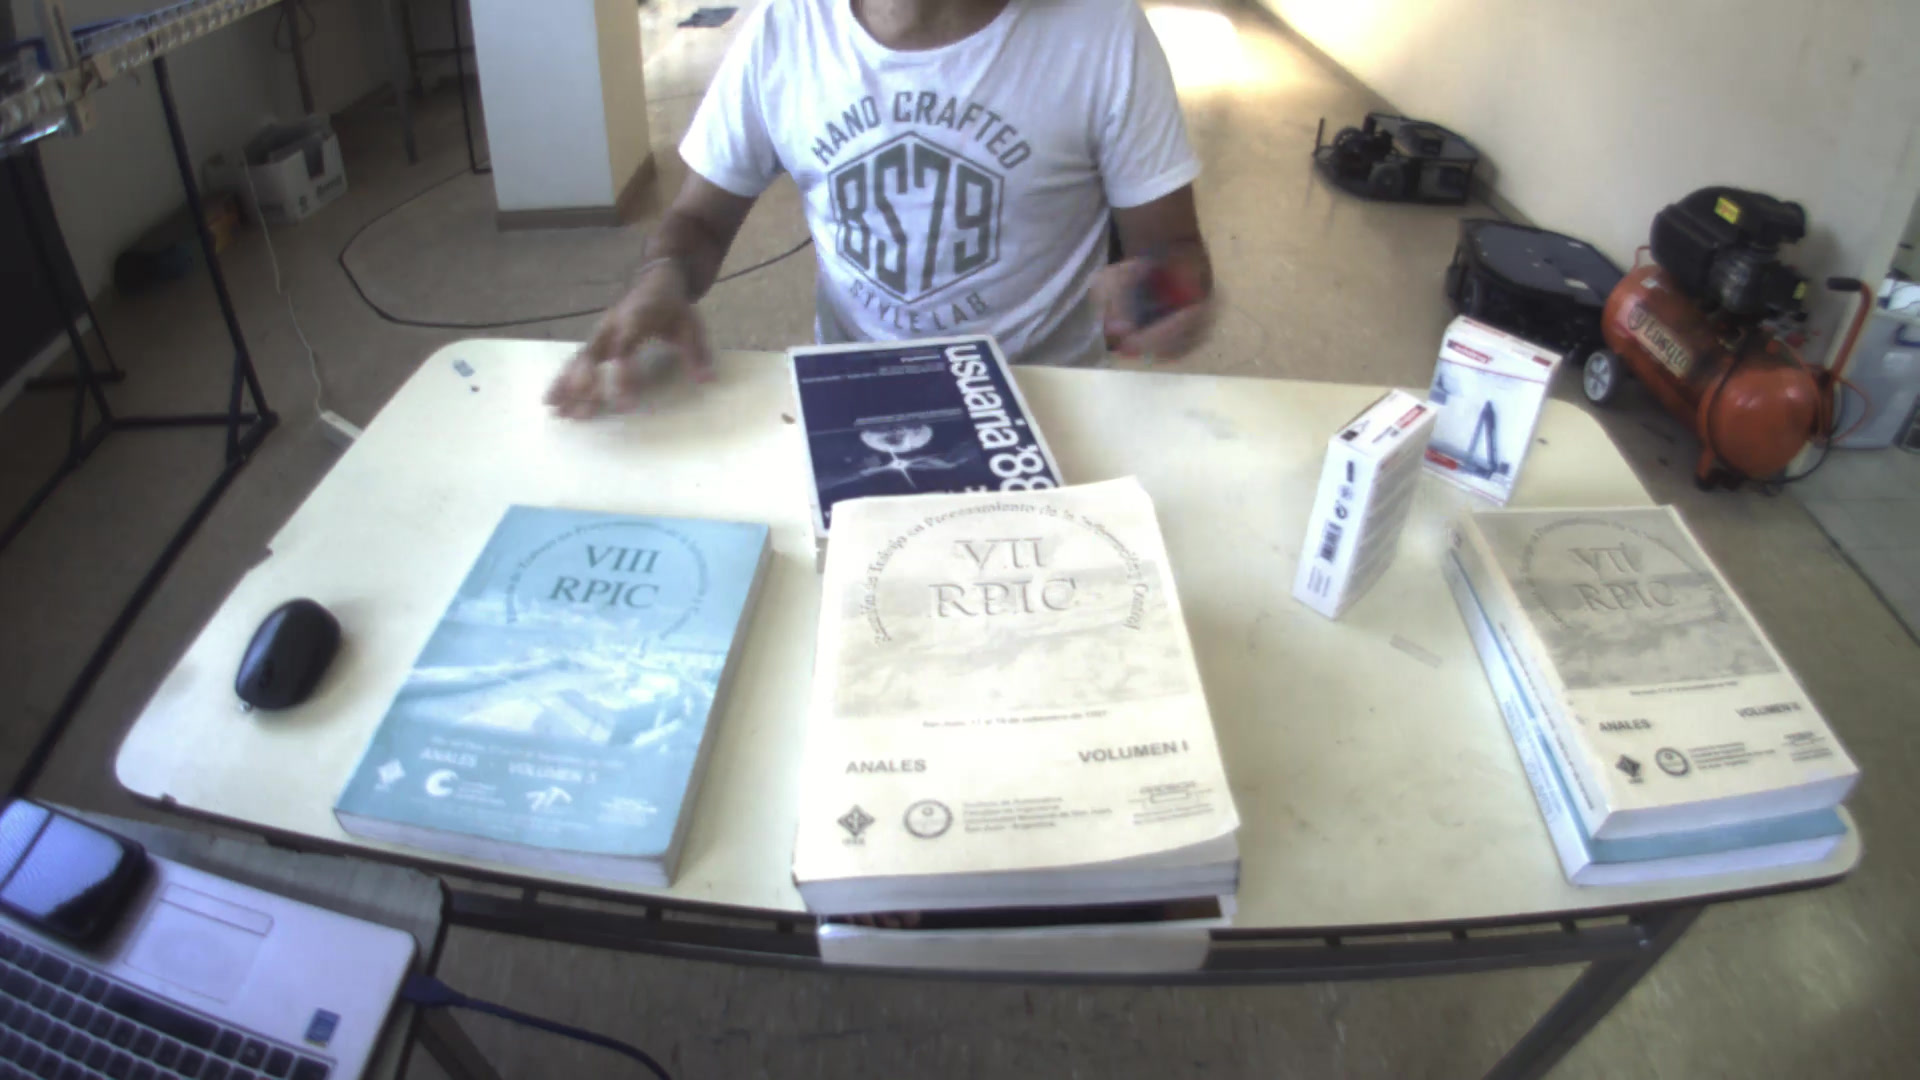hand: (531, 241, 721, 419)
